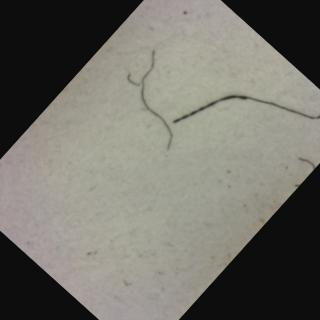Microplastic: (167, 27, 320, 197), (91, 35, 218, 162), (275, 141, 320, 191)
